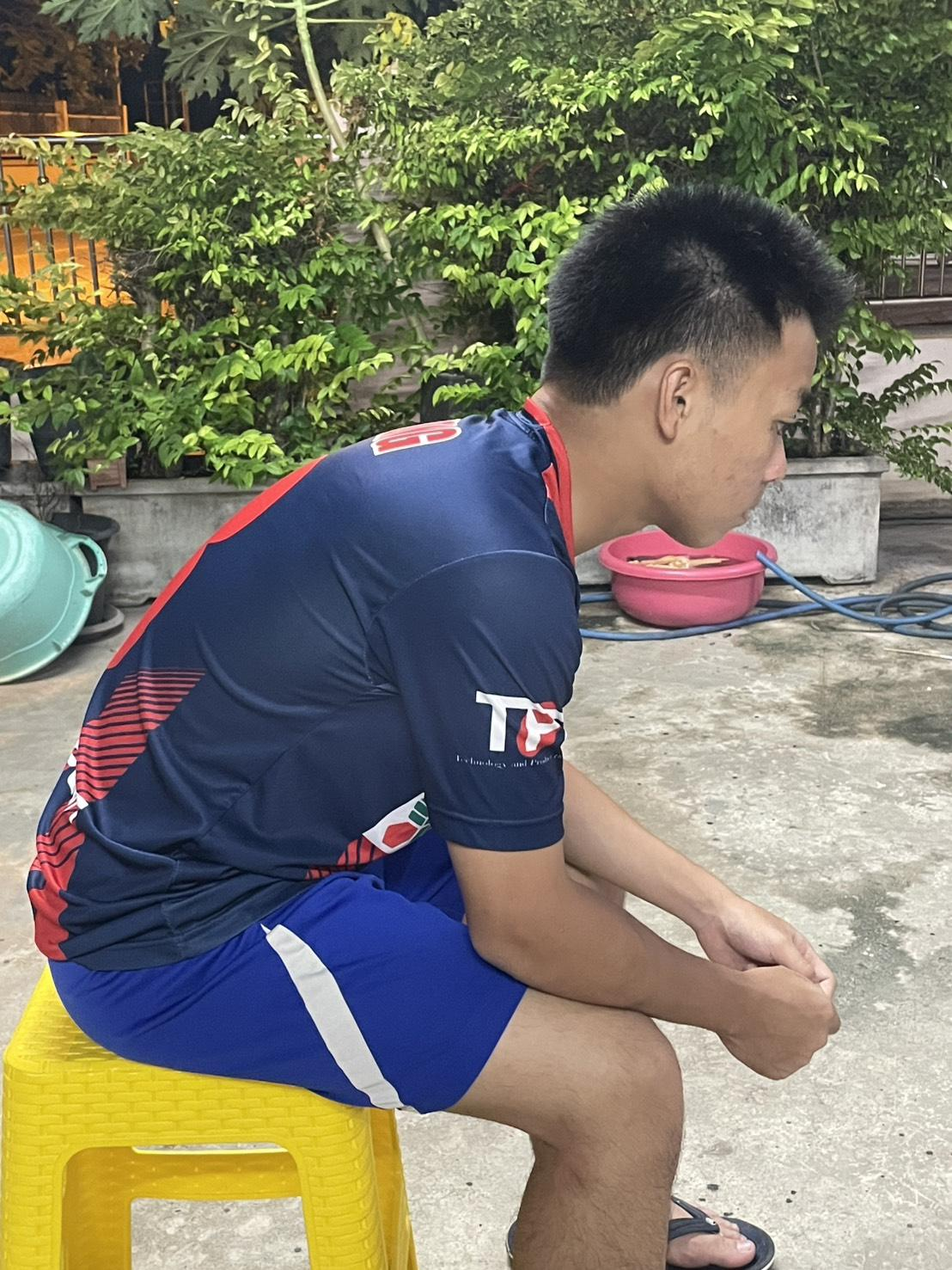BadPosture: (56, 186, 851, 1145)
